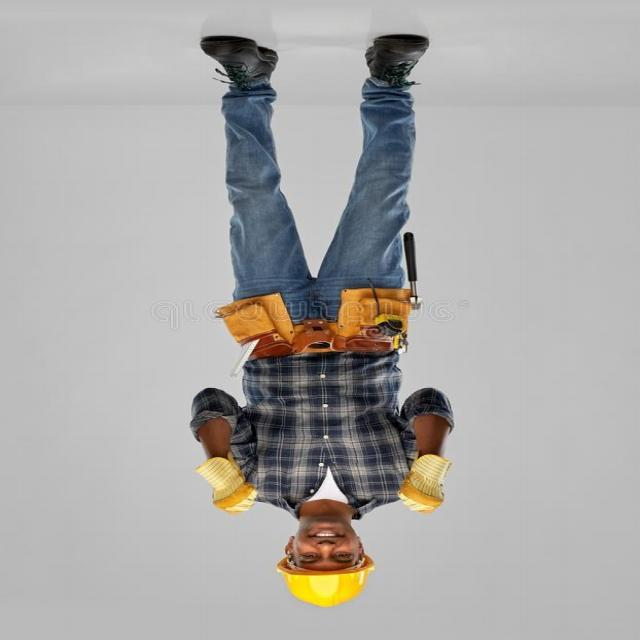safetyhelmet: (268, 504, 384, 615)
